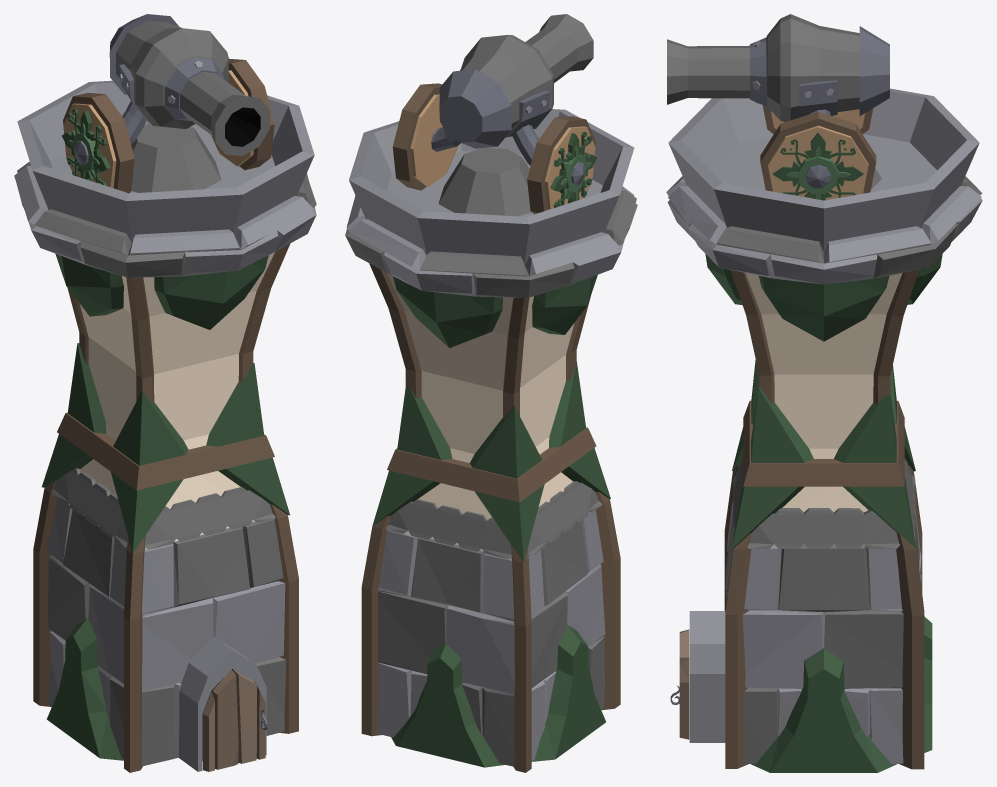
The model's file is Cannon_Tower_LVL_2.gltf.
The picture shows the model from 3 angles, left to right: view 1: azimuth 30°, elevation 25°; view 2: azimuth 150°, elevation 25°; view 3: azimuth 270°, elevation 25°; orthographic projection. The views are drawn at different scales.
Visible parts, largest first — view 1: Cannon_Tower_LVL_2_Body, Cannon_Tower_LVL_2_Head; view 2: Cannon_Tower_LVL_2_Body, Cannon_Tower_LVL_2_Head; view 3: Cannon_Tower_LVL_2_Body, Cannon_Tower_LVL_2_Head.
Part boxes in pixels (x1,y1,x2,y2): Cannon_Tower_LVL_2_Body: [18, 189, 316, 772]; Cannon_Tower_LVL_2_Head: [14, 14, 316, 255]; Cannon_Tower_LVL_2_Body: [345, 204, 637, 772]; Cannon_Tower_LVL_2_Head: [345, 14, 636, 279]; Cannon_Tower_LVL_2_Body: [667, 200, 982, 772]; Cannon_Tower_LVL_2_Head: [666, 14, 982, 263].
Bounding box in the file's own units: 3.02 × 7.44 × 3.01.
Materials: 2 (2 with a texture image).
